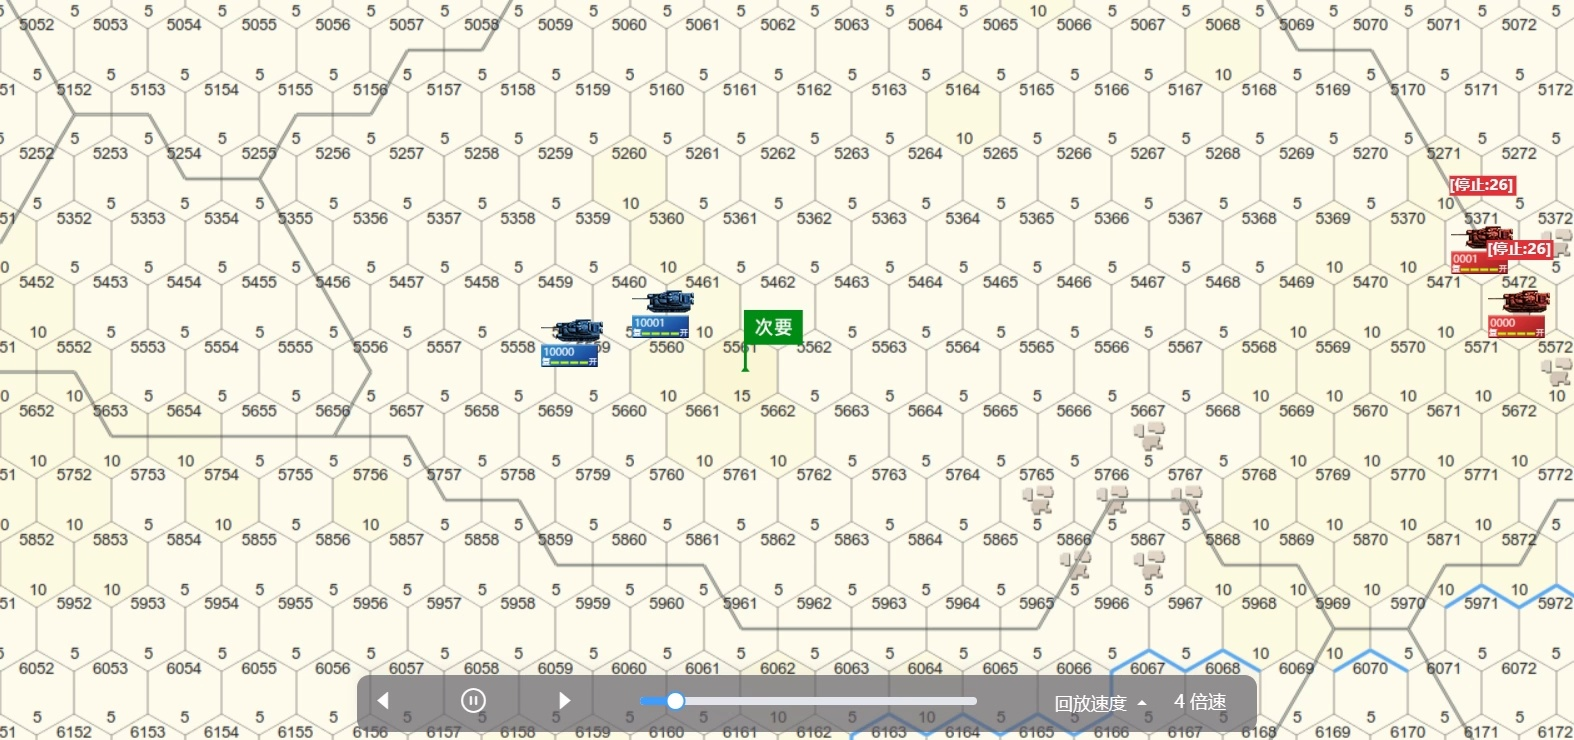blue_tank: (630, 294, 700, 340), (548, 322, 606, 371)
red_tank: (1486, 294, 1553, 344), (1447, 227, 1518, 274)
